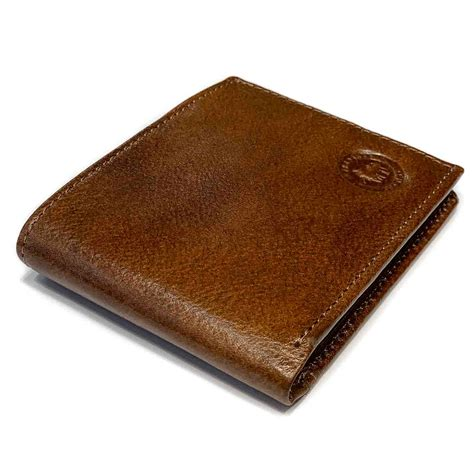cuero: (16, 75, 462, 410)
